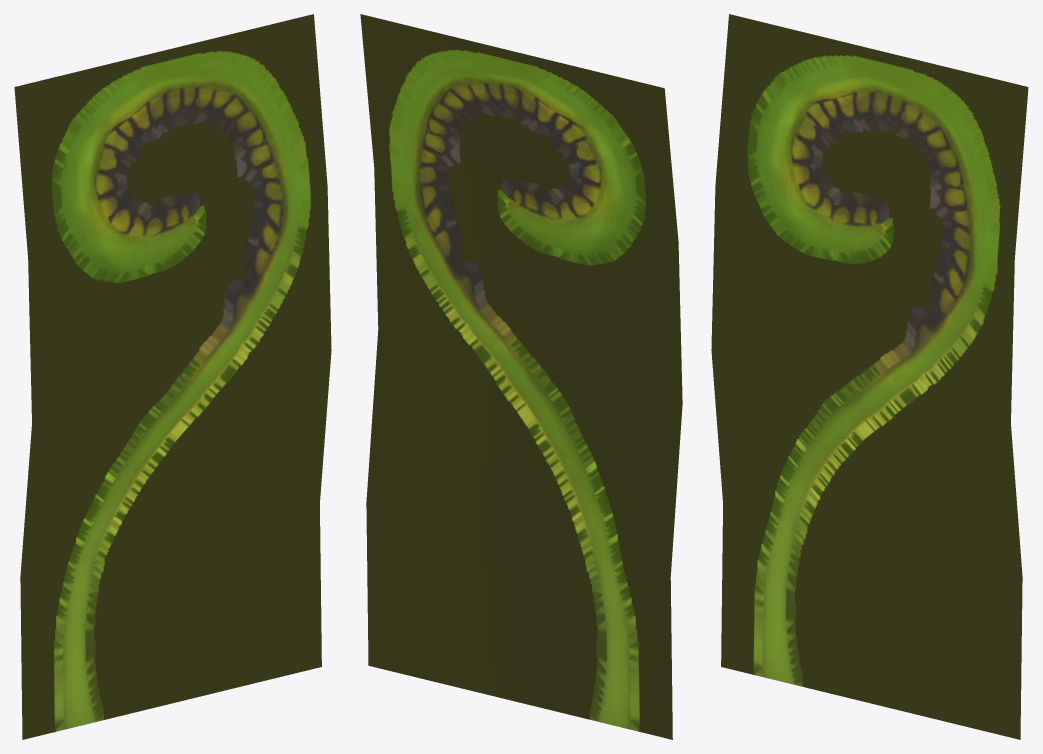
The model's file is grass_04.fbx.
3 views of the same model, side by side, from view 1: azimuth 30°, elevation 25°; view 2: azimuth 150°, elevation 25°; view 3: azimuth 330°, elevation 25° (orthographic).
Visible parts, largest first — view 1: grass_04; view 2: grass_04; view 3: grass_04.
Part boxes in pixels (x1,y1,x2,y2): grass_04: (14,14,331,739); grass_04: (360,14,682,739); grass_04: (711,14,1028,739).
Size of the model in its own units: 40.71 by 84.07 by 4.14.
